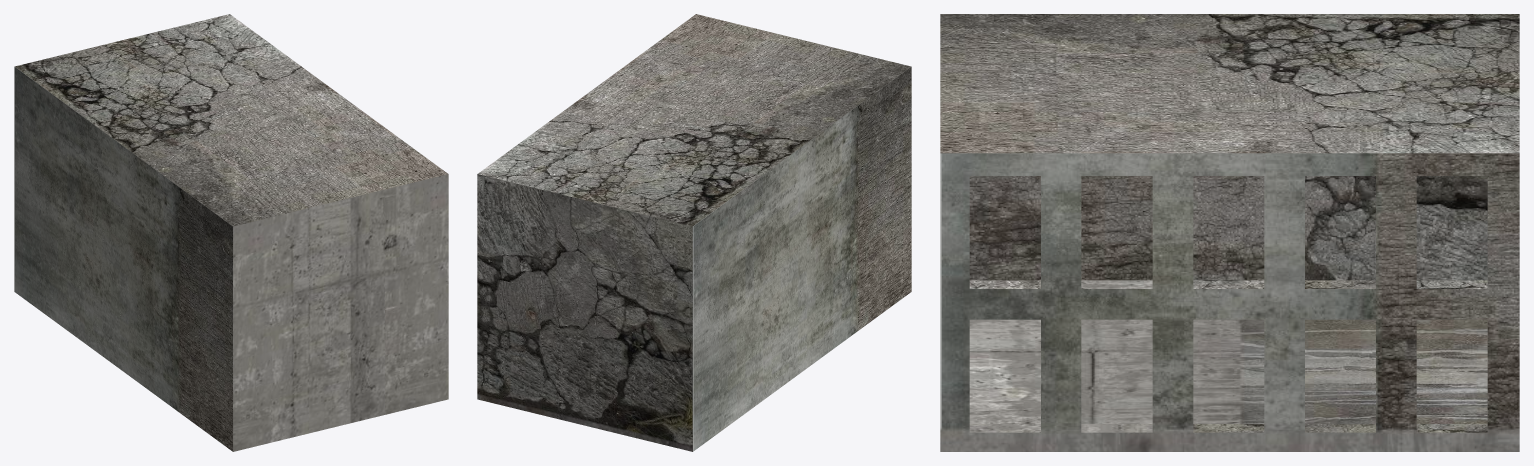
3 views of the same model, side by side, from view 1: azimuth 30°, elevation 25°; view 2: azimuth 150°, elevation 25°; view 3: azimuth 270°, elevation 25° (orthographic). The views are drawn at different scales.
Parts seen in each view (by area): view 1: Cube.069; view 2: Cube.069; view 3: Cube.069.
Part boxes in pixels (box(x1,y1,x2,y2)): Cube.069: box(14, 14, 448, 451); Cube.069: box(477, 14, 911, 451); Cube.069: box(940, 14, 1519, 451).
Bounding box in the file's own units: 2 × 2 × 3.52.
1 material, 1 textured.
